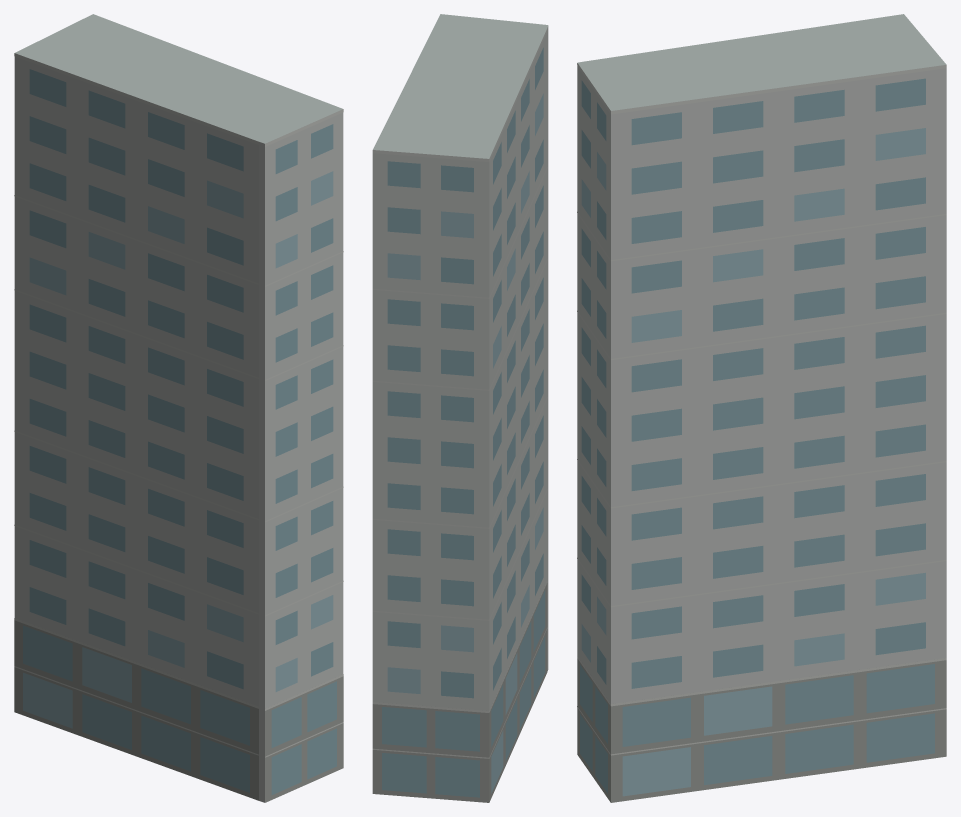
The model's file is survey-upis-32867629.glb.
3 views of the same model, side by side, from view 1: azimuth 30°, elevation 25°; view 2: azimuth 150°, elevation 25°; view 3: azimuth 270°, elevation 25° (orthographic). The views are drawn at different scales.
Visible parts, largest first — view 1: survey-upis-32867629.tmp; view 2: survey-upis-32867629.tmp; view 3: survey-upis-32867629.tmp.
Part boxes in pixels (box(x1,y1,x2,y2)): survey-upis-32867629.tmp: box(14, 14, 343, 802); survey-upis-32867629.tmp: box(372, 14, 548, 802); survey-upis-32867629.tmp: box(577, 14, 946, 802).
Bounding box in the file's own units: 14.68 × 48.72 × 23.6.
